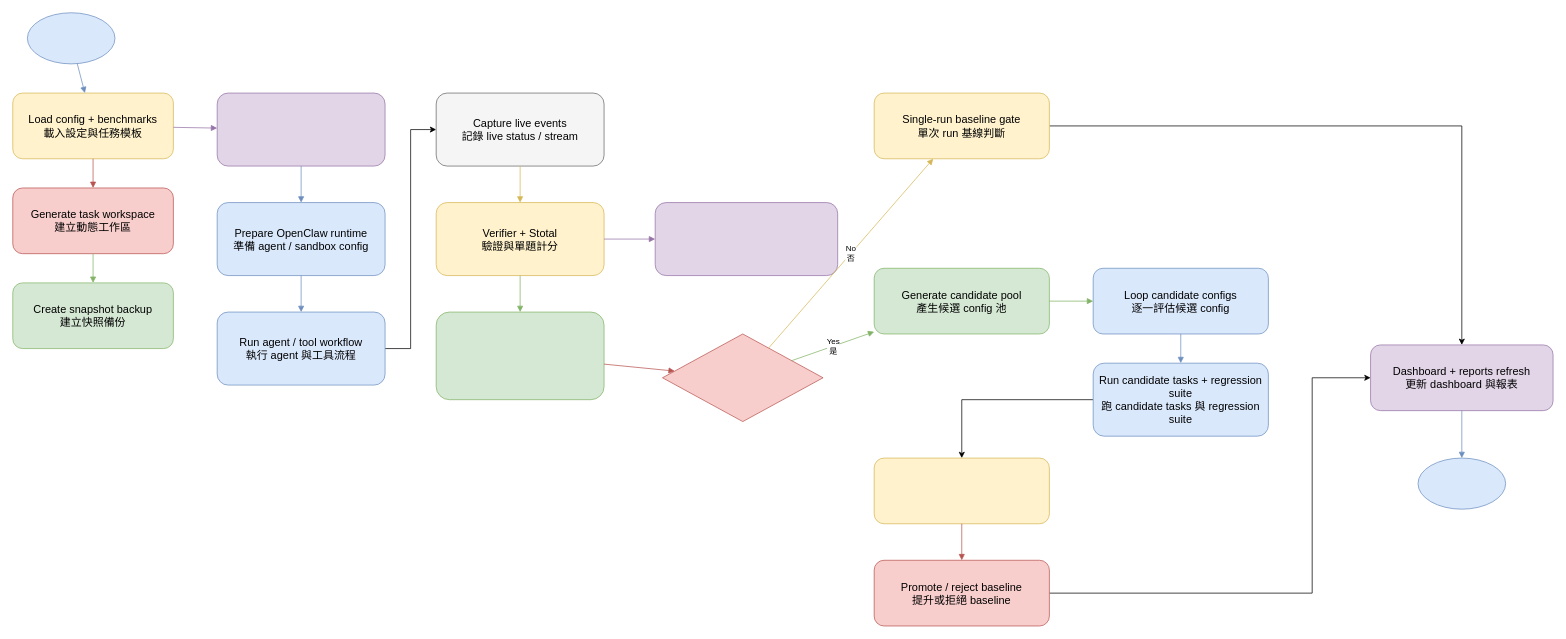
Some shapes in this 1566 by 639 pixel diagram are drawn without their labels. The shapes that lost their labels are listed below. From the top down, each one's centre as x and y in pixels, then its label:
the point at 71,38: Start 開始
the point at 300,129: Build runner 建立 runner session_mock or openclaw_cli
the point at 746,239: Write artifacts + DB + reports 寫入 artifact / DB / reports
the point at 519,355: Diff restore 差異還原 restore modified restore missing remove new files
the point at 742,377: Nightly mode? 是否為 nightly？
the point at 961,490: Aggregate weighted fitness 聚合 weighted fitness
the point at 1461,483: End 結束
